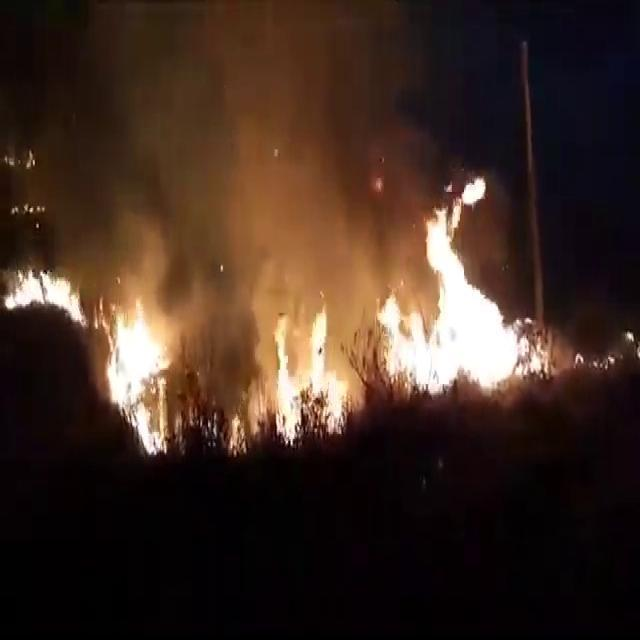Fire: (380, 172, 548, 402), (251, 294, 351, 448), (100, 296, 172, 456), (0, 261, 85, 322)
Smoke: (70, 0, 434, 298)
